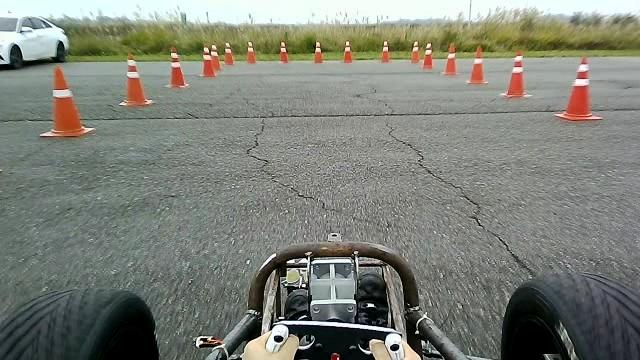red cone: (39, 64, 95, 137), (553, 56, 602, 120), (118, 52, 154, 106), (500, 51, 531, 98), (164, 47, 189, 89), (465, 46, 488, 84), (440, 42, 460, 75), (199, 46, 218, 77), (210, 44, 222, 70), (422, 42, 433, 68), (224, 41, 234, 65), (410, 40, 420, 63), (210, 44, 218, 56)
